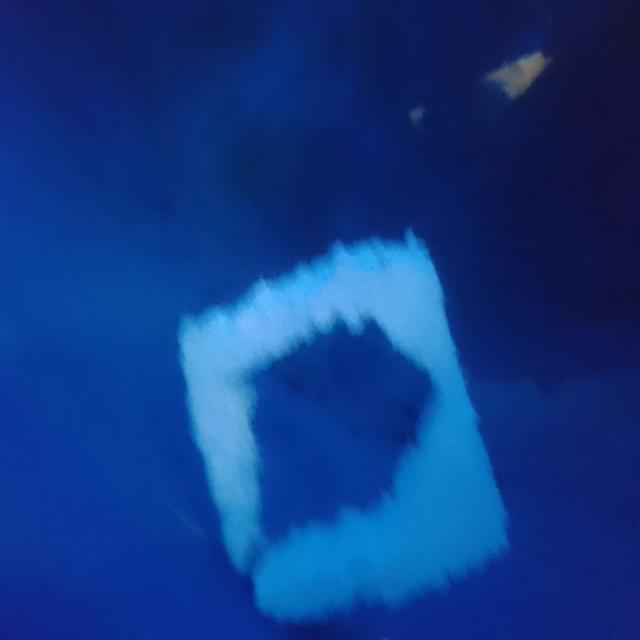litter: (154, 216, 539, 633)
